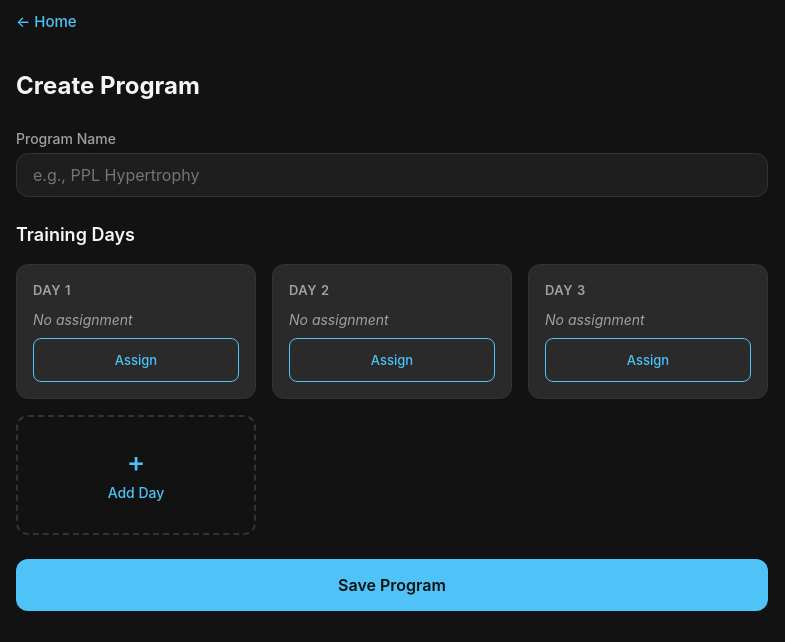
CreateProgramPage › adds a new day when Add Day button is clicked
Click the button with test id "add-day-tile": (136, 474) top-left (16, 414), bottom-right (256, 534)
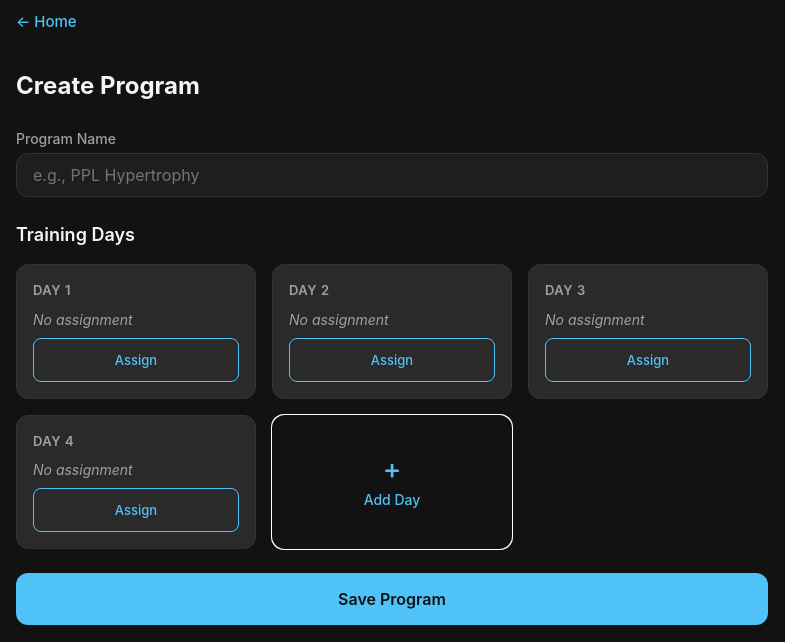
Now the element with test id "day-tile-4" is shown, box top-left (16, 414), bottom-right (256, 549)
